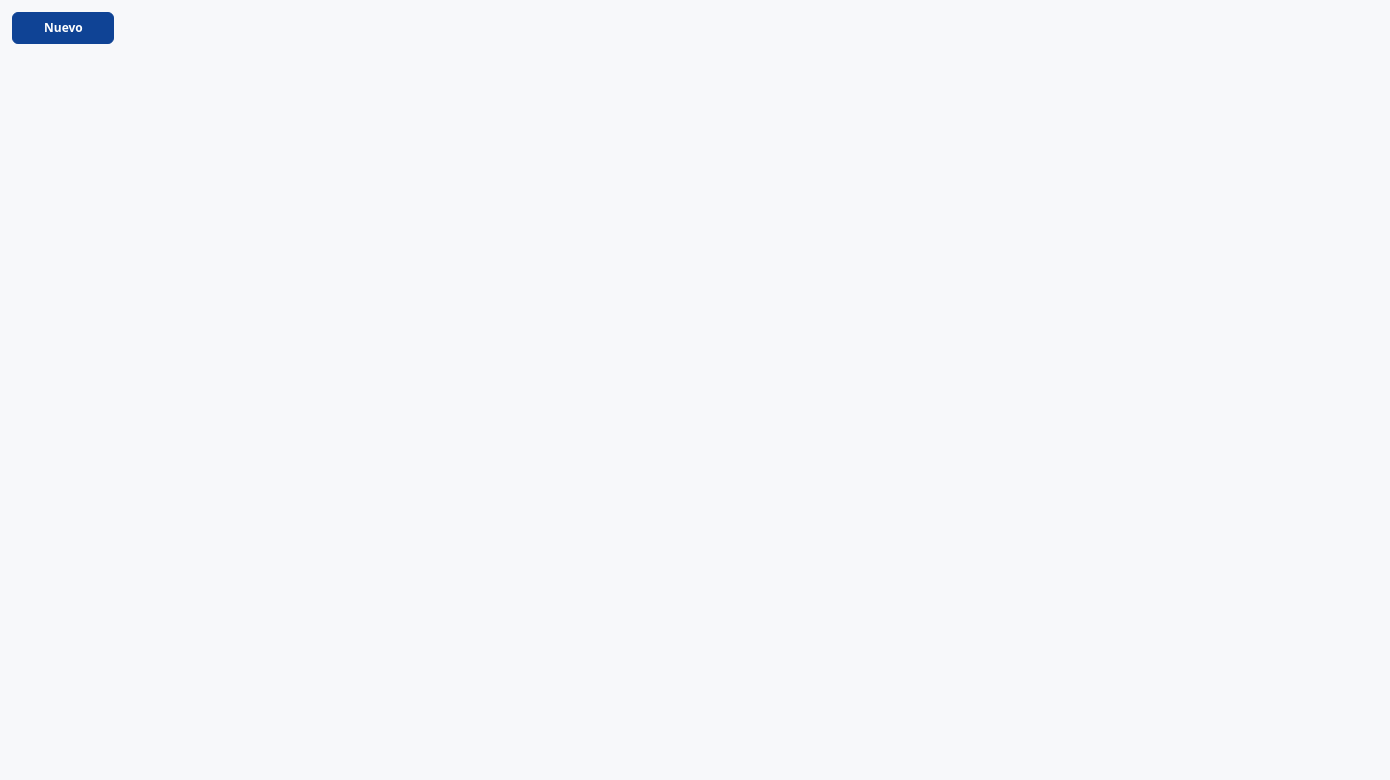
Test: QuickAddMenu — acciones filtradas por permiso › Capataz: agrega Pedido pero no Proveedor, Comprobante de costos ni Invitar
What coordinates should you click on to do the following:
click the button "Nuevo"
I would click on:
 (63, 28)
Its box is x1=12 y1=12 x2=114 y2=44.
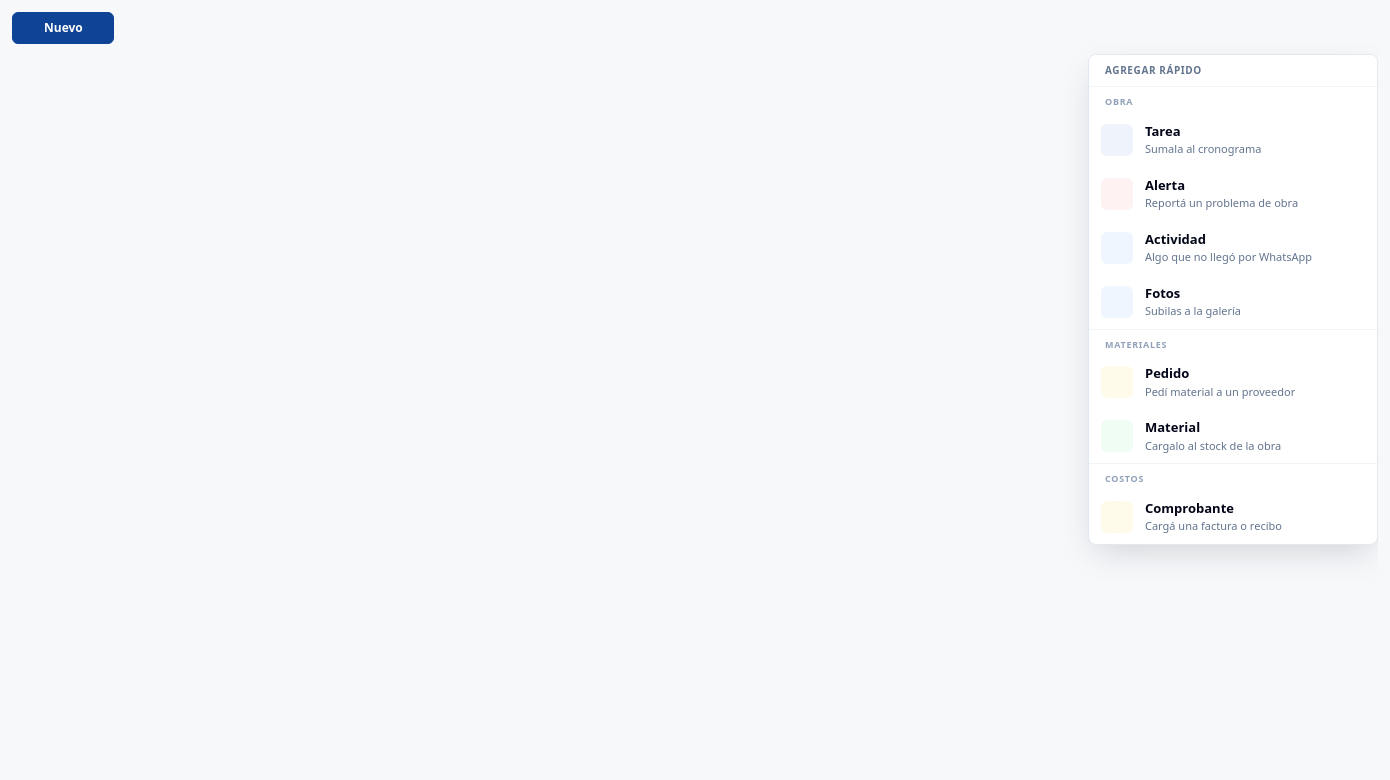
Check: the text "Pedido" is shown, box x1=1145 y1=364 x2=1189 y2=382
Check: the text "Material" is shown, box x1=1145 y1=418 x2=1200 y2=436
Check: the text "Comprobante" is shown, box x1=1145 y1=498 x2=1234 y2=516
